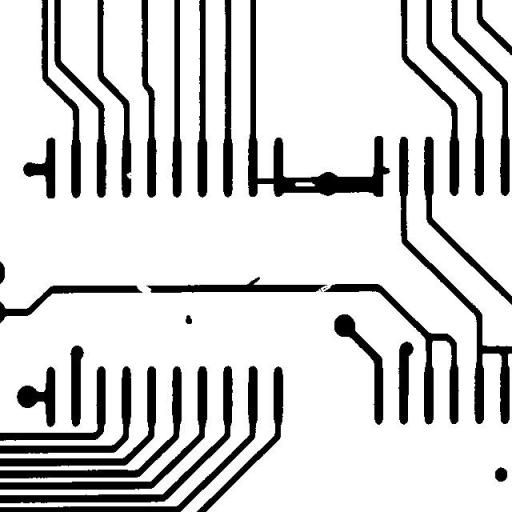copper: (178, 307, 199, 331)
mousebite: (118, 164, 138, 186)
open: (304, 273, 342, 303), (129, 276, 158, 302)
pin-hole: (288, 174, 322, 194)
short: (242, 170, 286, 191)
spur: (238, 268, 268, 294), (374, 158, 398, 182)
